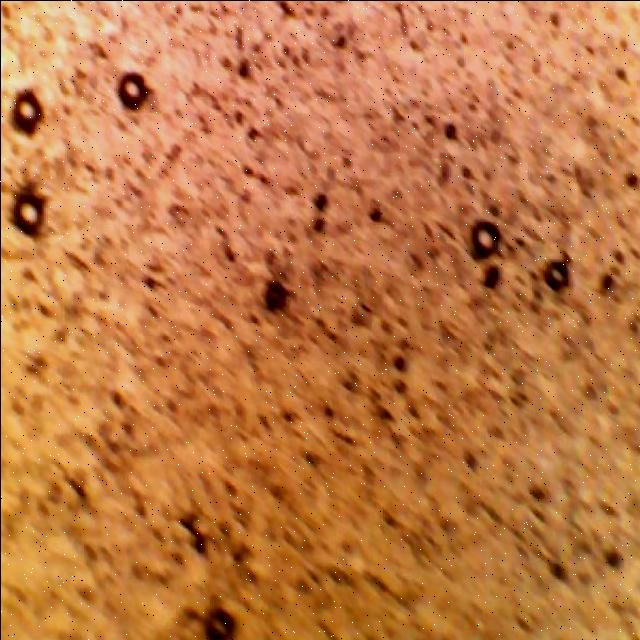microbeads: (10, 185, 46, 233), (470, 212, 500, 262), (114, 72, 146, 110), (12, 93, 42, 131)
